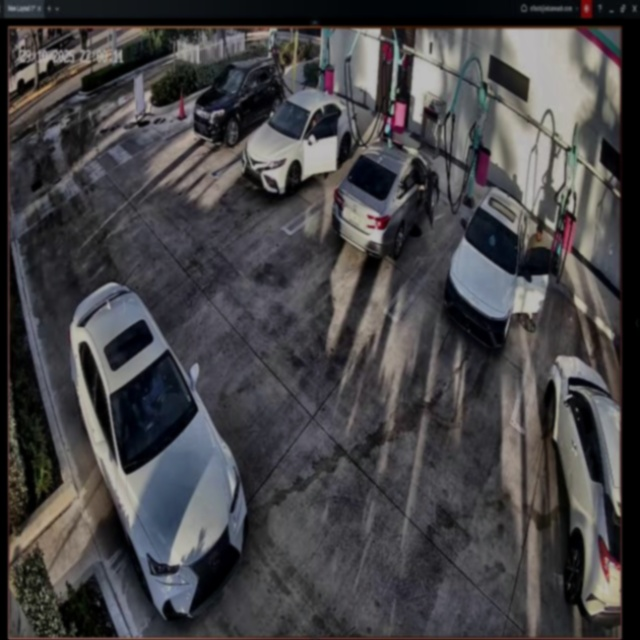Car: (71, 284, 249, 620), (446, 190, 551, 348), (329, 136, 438, 256), (247, 93, 357, 190), (192, 59, 284, 147)
